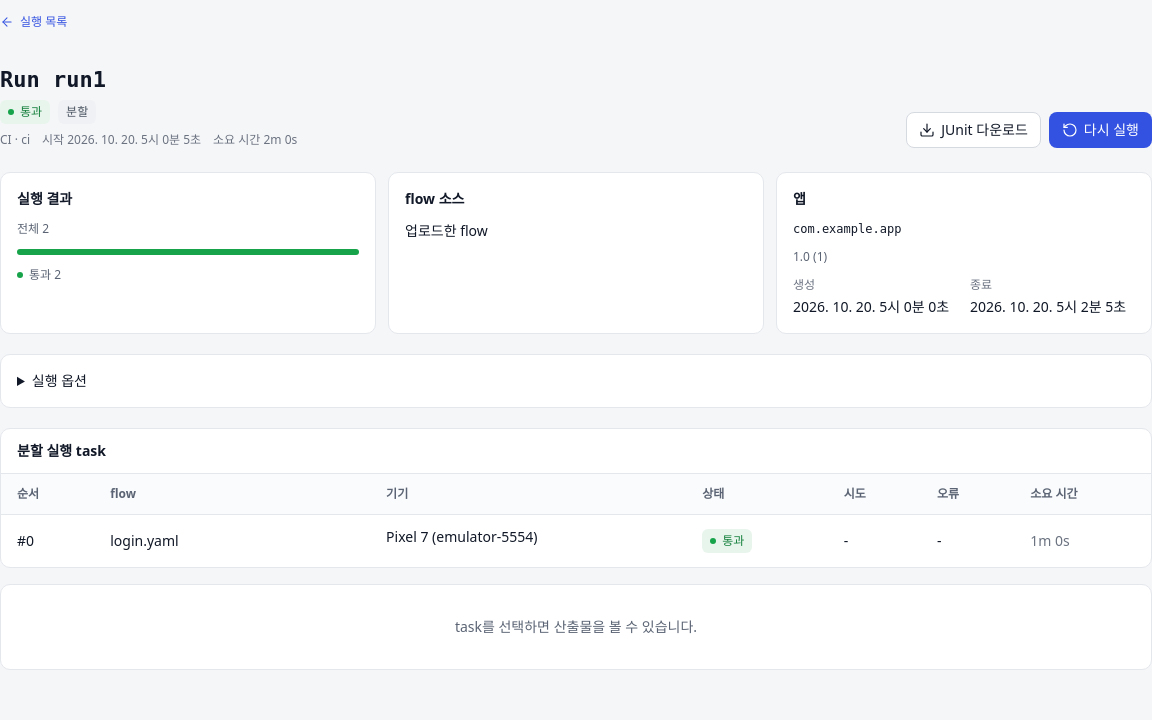
hides failed-only re-run for successful runs and surfaces re-run errors
Click the button "다시 실행".
click(1100, 130)  # box x1=1049 y1=112 x2=1151 y2=148
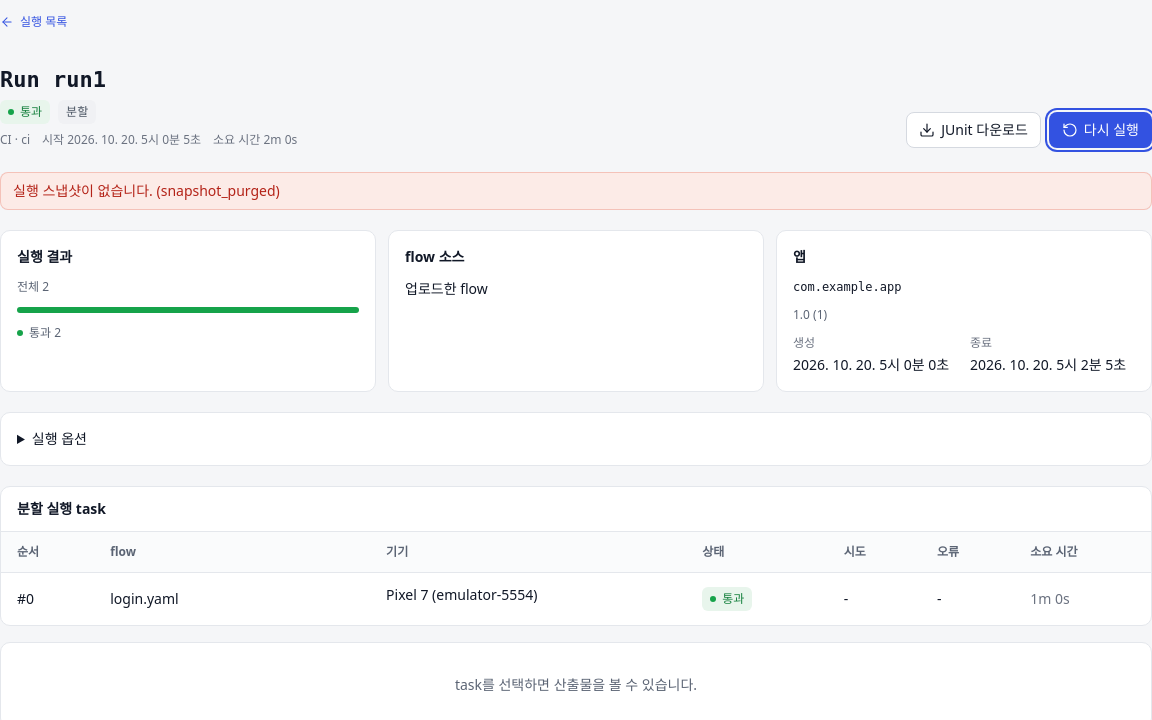
Expected: the message shows "실행 스냅샷이 없습니다.", x1=13 y1=181 x2=280 y2=200
